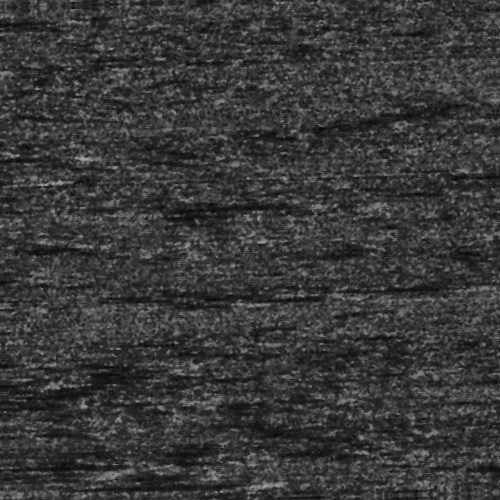object: (432, 287, 500, 294), (14, 171, 77, 178), (14, 374, 77, 381), (225, 478, 278, 485), (41, 148, 94, 153), (279, 202, 310, 207)
shadow: (79, 478, 252, 485), (356, 287, 469, 294), (140, 202, 294, 207), (0, 148, 67, 153), (0, 171, 46, 178), (0, 374, 46, 381)
